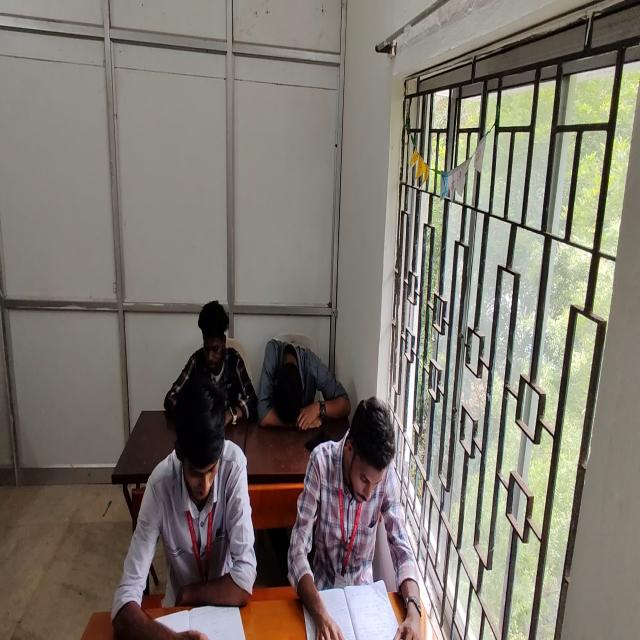listening: (113, 375, 257, 640)
reading: (285, 397, 405, 640)
sleeping: (260, 337, 348, 429)
using_mobile: (163, 299, 258, 428)
